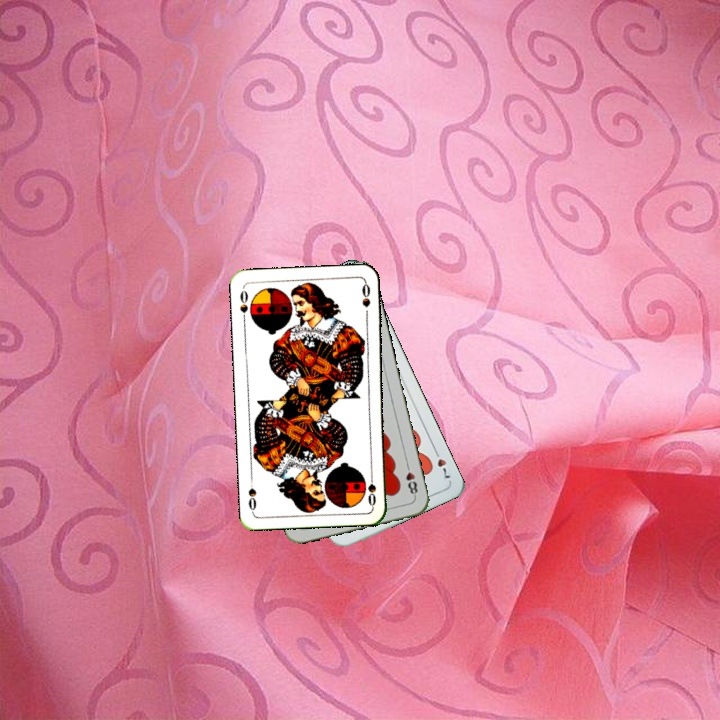H7: (430, 445, 453, 482)
H8: (402, 459, 420, 499)
SO: (364, 468, 379, 508), (236, 286, 251, 325)
